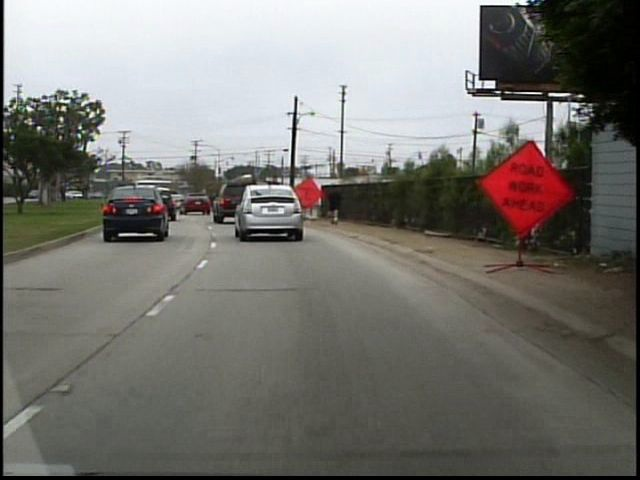person: (322, 181, 344, 227)
